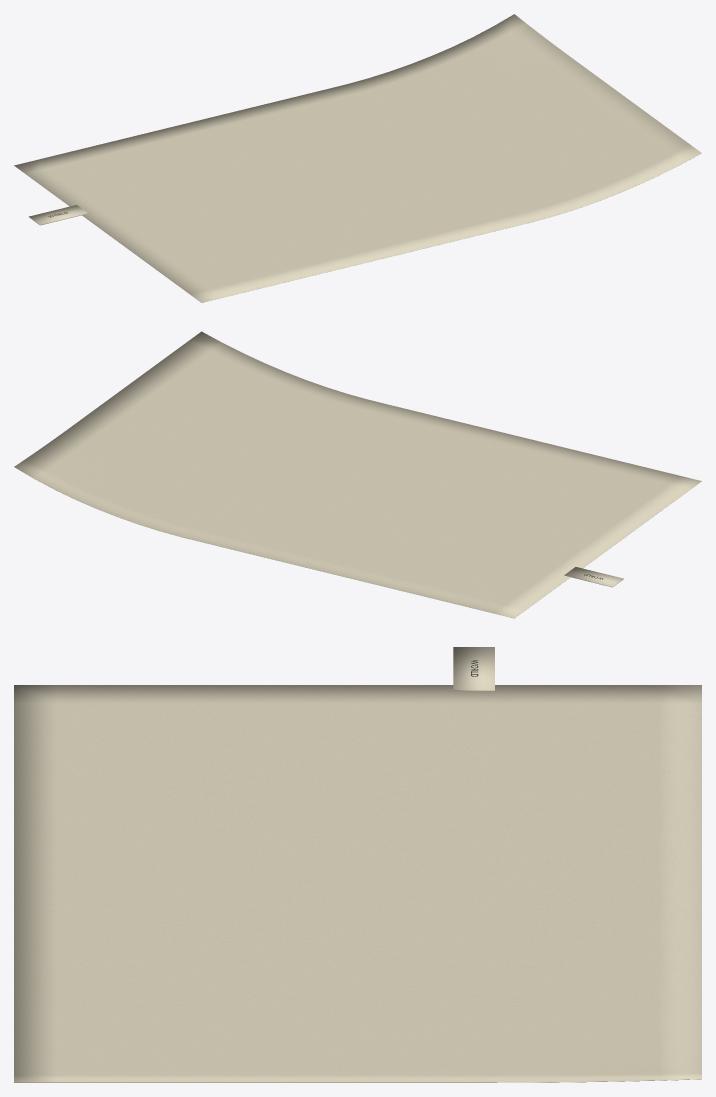
Rendered from workpaper_map.glb.
3 views of the same model, one above another, from view 1: azimuth 30°, elevation 25°; view 2: azimuth 150°, elevation 25°; view 3: azimuth 270°, elevation 25° (orthographic). The views are drawn at different scales.
Parts seen in each view (by area): view 1: workpaper_map__PaperSurface, workpaper_map__Tab; view 2: workpaper_map__PaperSurface, workpaper_map__Tab; view 3: workpaper_map__PaperSurface, workpaper_map__Tab.
Part boxes in pixels (x1,y1,x2,y2): workpaper_map__PaperSurface: [14, 14, 701, 302]; workpaper_map__Tab: [29, 205, 88, 225]; workpaper_map__PaperSurface: [14, 331, 701, 618]; workpaper_map__Tab: [564, 567, 623, 587]; workpaper_map__PaperSurface: [14, 685, 701, 1082]; workpaper_map__Tab: [453, 647, 494, 690].
Bounding box in the file's own units: 1.24 × 0.0644 × 0.74.
3 materials, 2 textured.
